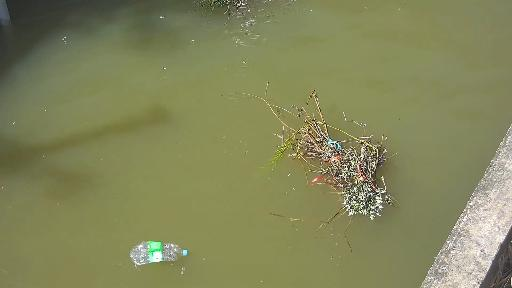plastic: (112, 232, 179, 264)
twig: (210, 75, 387, 221), (182, 0, 277, 33)
